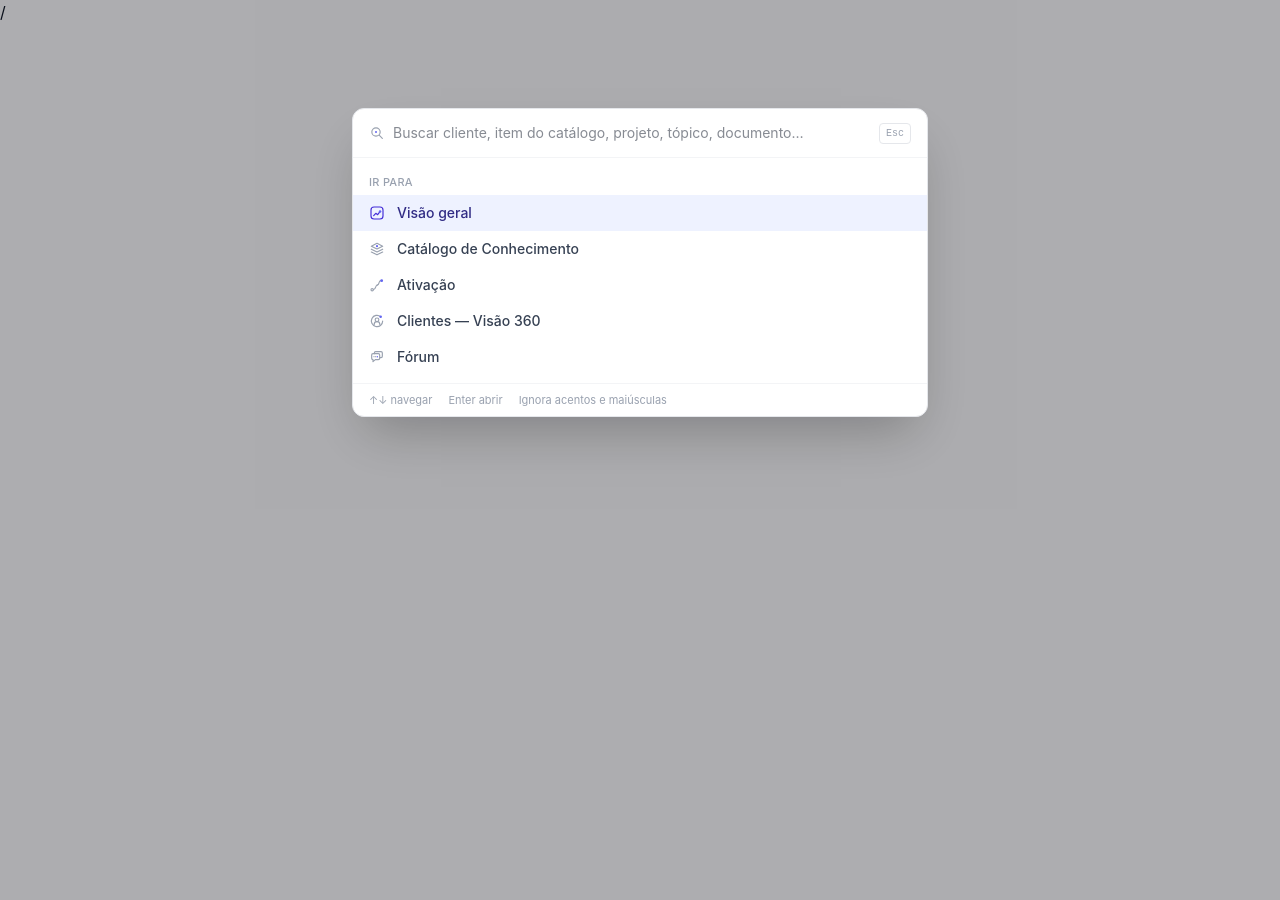
Test case: CommandPalette (busca global) › orienta a usar o Assistente quando não encontra nada
Type "xyz" into the field labelled "Buscar" at (632, 133), box [393,109,871,157]
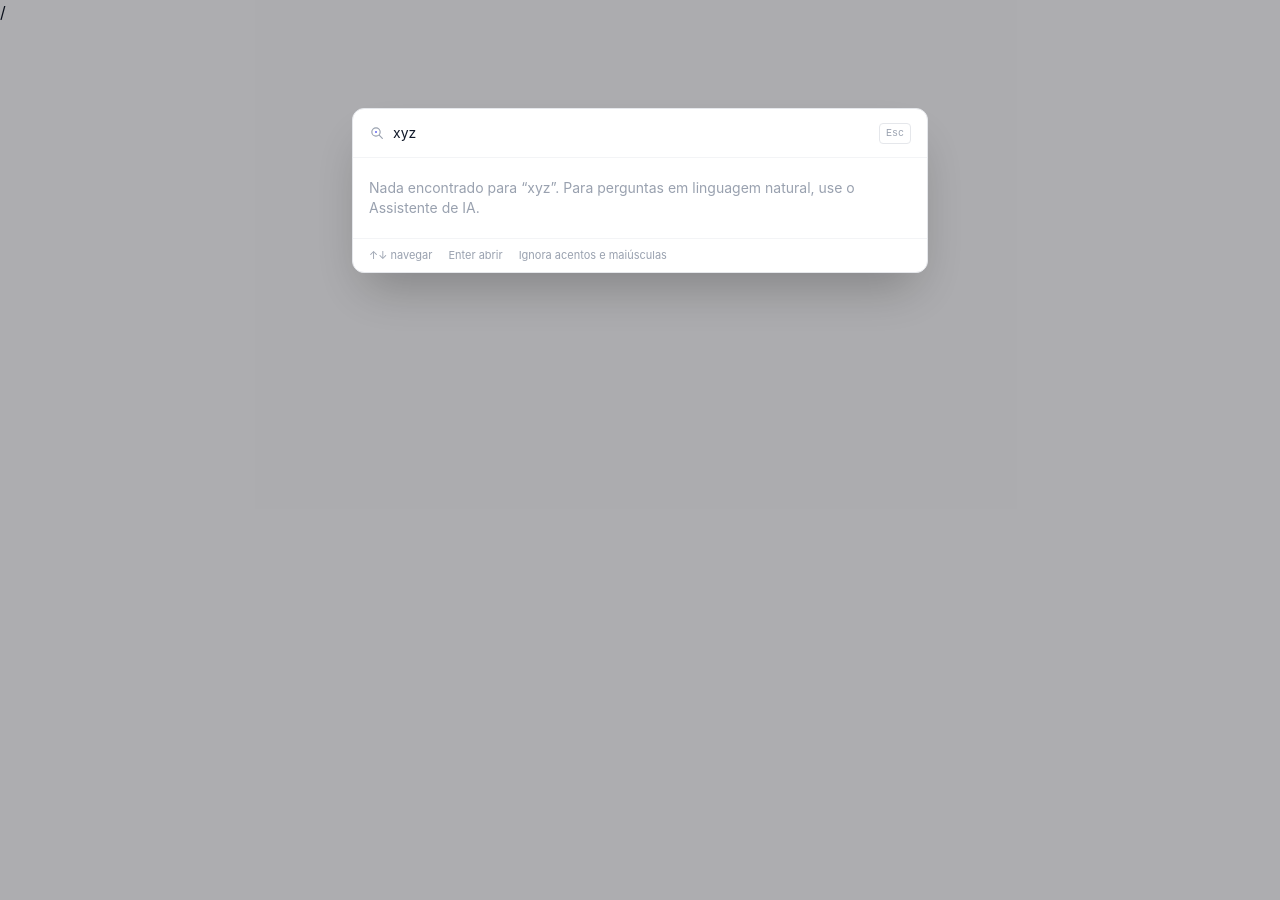
Check: the text "Nada encontrado para “xyz”" is shown, box [369,179,855,216]
